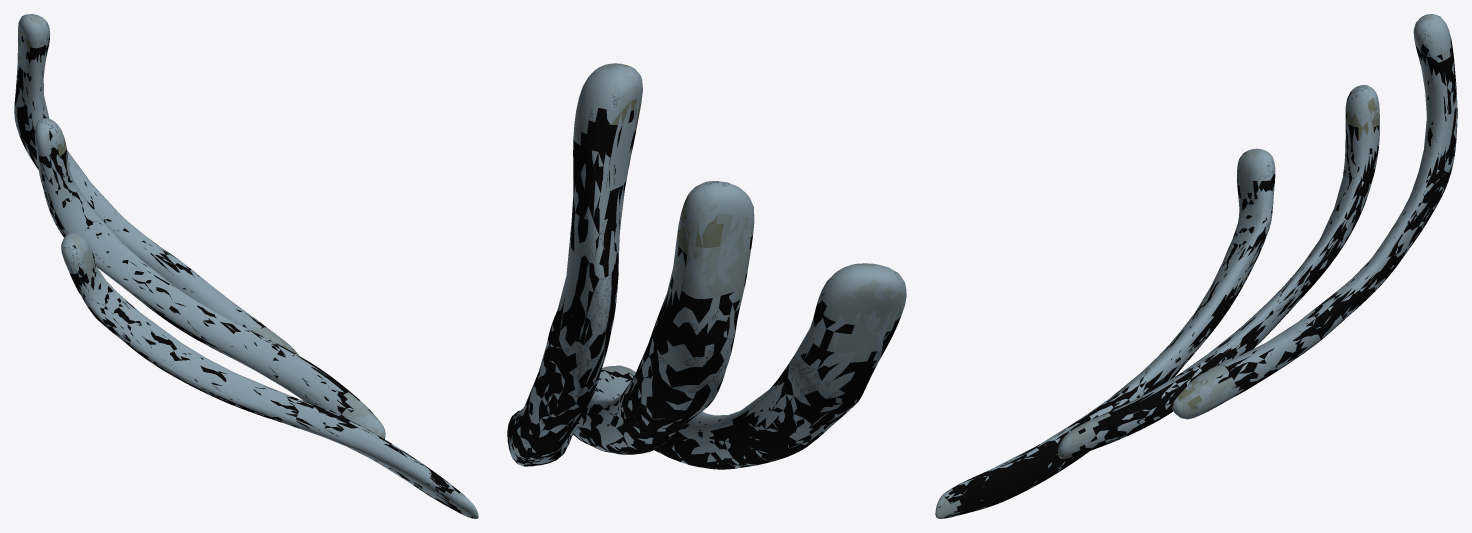
Rendered from Costal Cartilage Right.fbx.
3 renders of one model, left to right at view 1: azimuth 30°, elevation 25°; view 2: azimuth 150°, elevation 25°; view 3: azimuth 270°, elevation 25°, orthographic. The views are drawn at different scales.
Parts seen in each view (by area): view 1: Costal Cartilage Right, Costal Cartilage Right low, Costal Cartilage Right high; view 2: Costal Cartilage Right high, Costal Cartilage Right, Costal Cartilage Right low; view 3: Costal Cartilage Right high, Costal Cartilage Right, Costal Cartilage Right low.
Boxes of the visible parts, box(x1,y1,x2,y2) form: Costal Cartilage Right: box(14, 14, 478, 518); Costal Cartilage Right low: box(16, 38, 442, 496); Costal Cartilage Right high: box(14, 14, 478, 518); Costal Cartilage Right high: box(507, 63, 905, 469); Costal Cartilage Right: box(509, 63, 906, 468); Costal Cartilage Right low: box(516, 118, 867, 452); Costal Cartilage Right high: box(935, 14, 1457, 518); Costal Cartilage Right: box(935, 14, 1457, 518); Costal Cartilage Right low: box(988, 56, 1450, 470).
Bounding box in the file's own units: 13.41 × 18.46 × 21.97.
